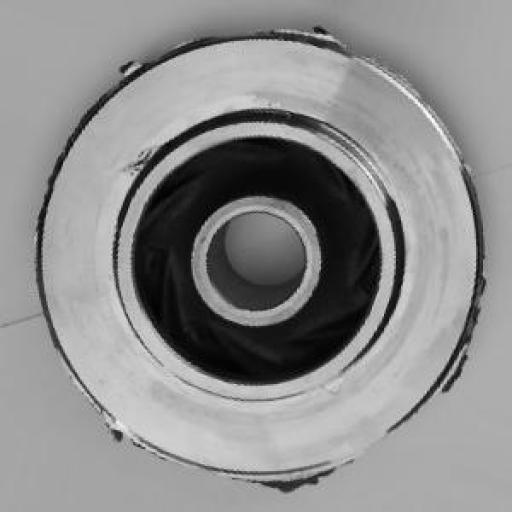defect: (40, 18, 505, 494)
